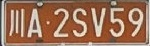A: (28, 9, 42, 37)
